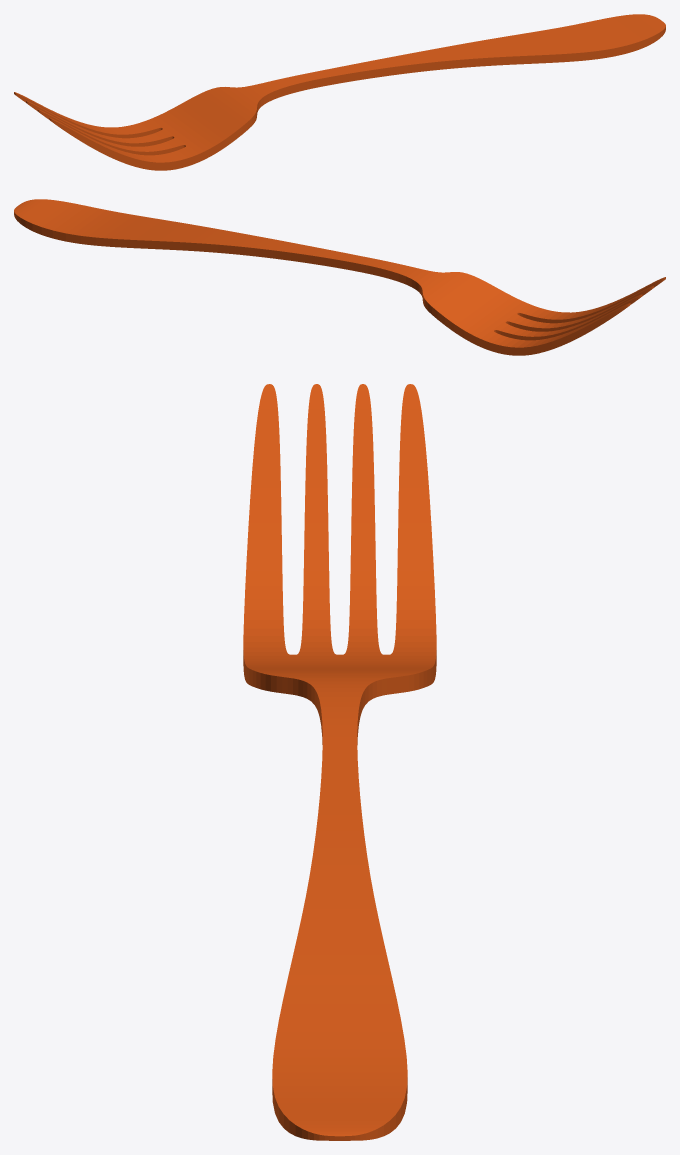
Rendered from orangefork.dae.
The picture shows the model from 3 angles, top to bottom: view 1: azimuth 30°, elevation 25°; view 2: azimuth 150°, elevation 25°; view 3: azimuth 270°, elevation 25°; orthographic projection. The views are drawn at different scales.
Parts seen in each view (by area): view 1: fork; view 2: fork; view 3: fork.
Boxes of the visible parts, x1=… form: fork: x1=14, y1=14, x2=665, y2=170; fork: x1=14, y1=199, x2=665, y2=355; fork: x1=243, y1=384, x2=436, y2=1140.
Bounding box in the file's own units: 188 × 25 × 22.
